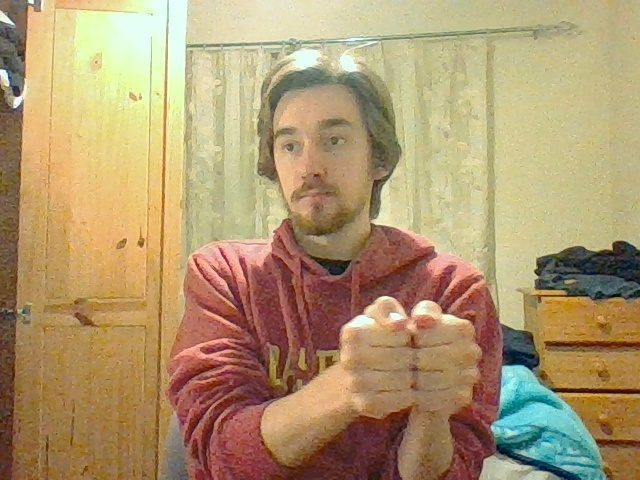brother: (337, 295, 482, 415)
